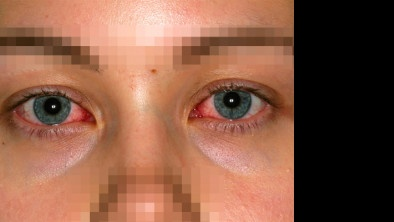SJS-TEN: (4, 0, 256, 38), (196, 129, 297, 222), (0, 130, 100, 222)
